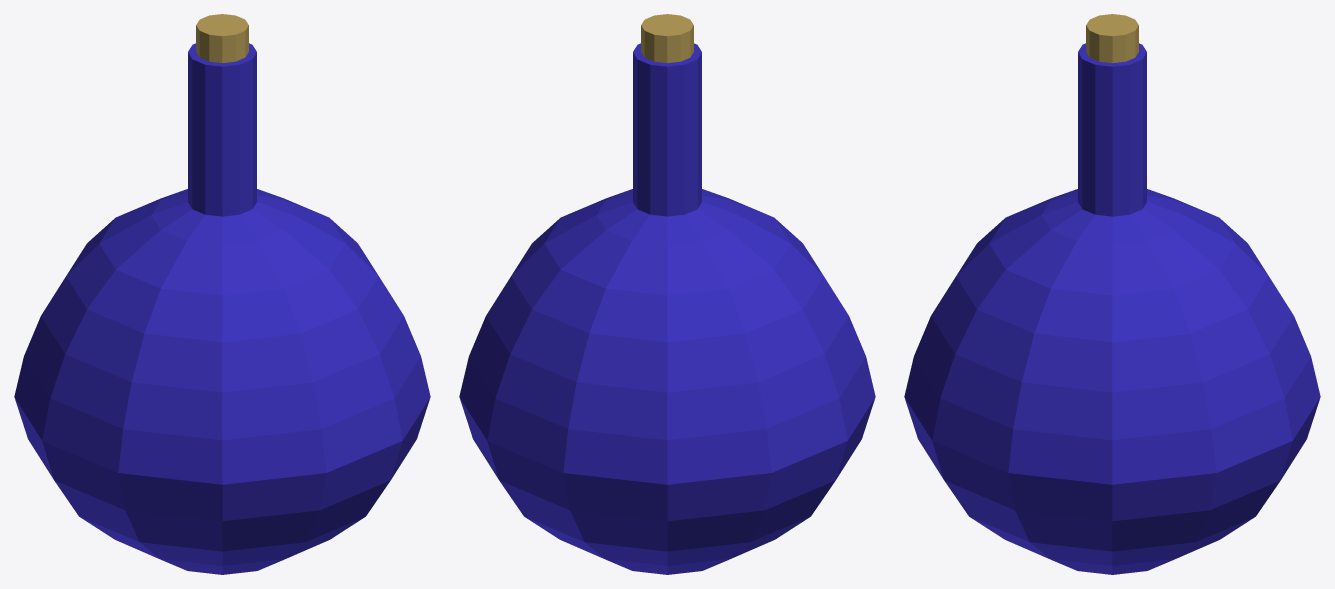
The model's file is BigPotion_Mana.fbx.
The picture shows the model from 3 angles, left to right: view 1: azimuth 30°, elevation 25°; view 2: azimuth 150°, elevation 25°; view 3: azimuth 270°, elevation 25°; orthographic projection.
Visible parts, largest first — view 1: BigPotion_Mana; view 2: BigPotion_Mana; view 3: BigPotion_Mana.
Boxes of the visible parts, x1=… form: BigPotion_Mana: x1=14, y1=14, x2=430, y2=574; BigPotion_Mana: x1=459, y1=14, x2=875, y2=574; BigPotion_Mana: x1=904, y1=14, x2=1320, y2=574.
Bounding box in the file's own units: 834 × 1150 × 834.
